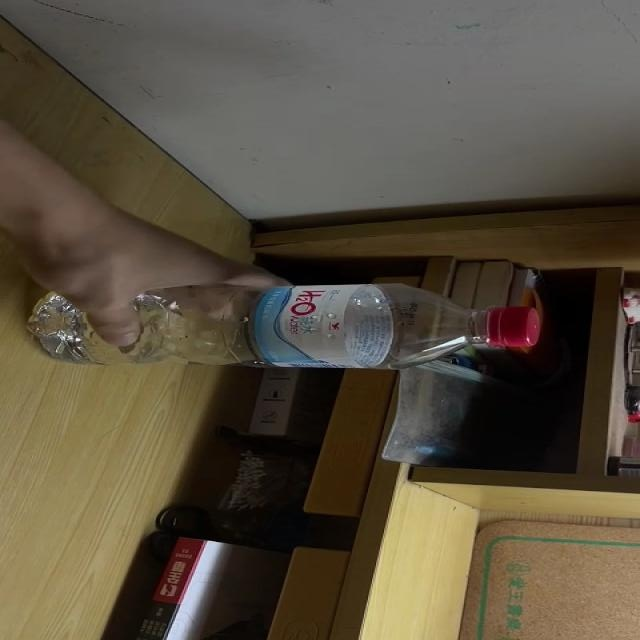Water: (29, 284, 540, 368)
